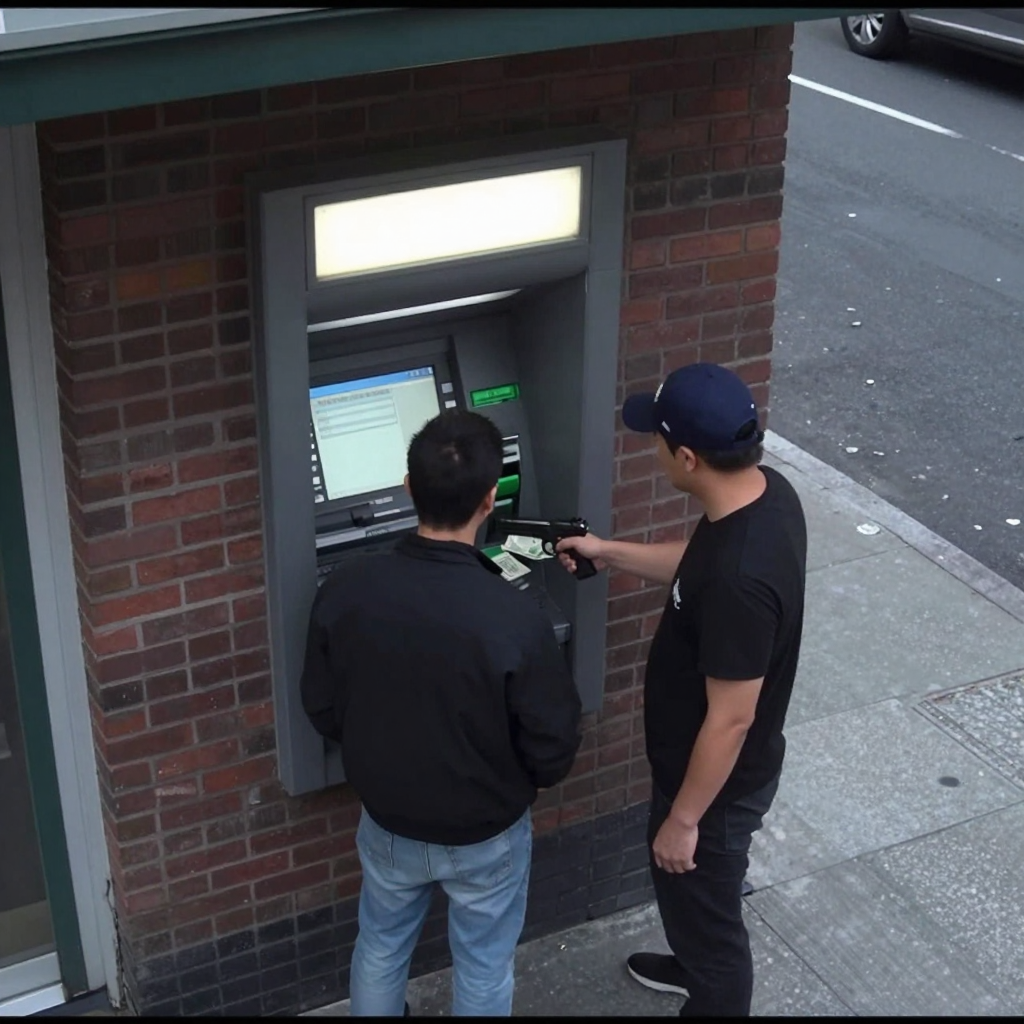Robbery: (298, 409, 583, 1017), (555, 362, 809, 1018)
Shooting: (498, 511, 601, 577)
